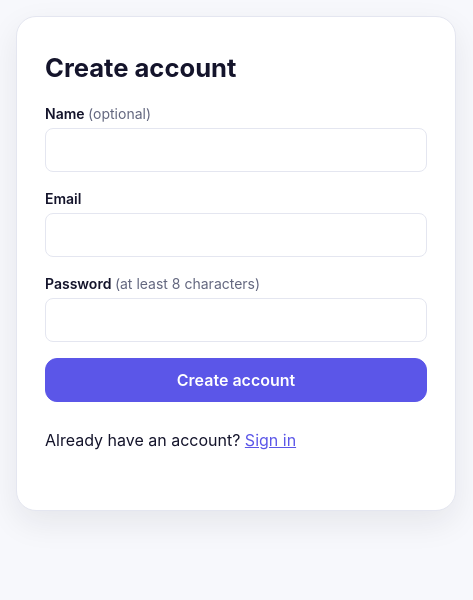
Test case: TC-AUTH-01 — sign up › reports an already-registered email in plain words
In the field labelled "Email": [236, 235] box [45, 213, 427, 257], type "dup@test.local"
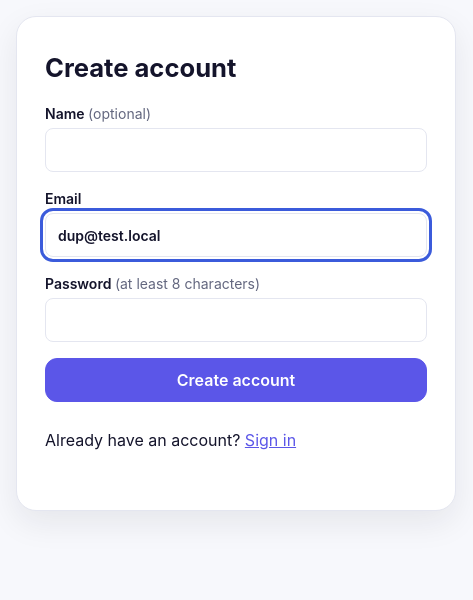
In the password field labelled "Password (at least 8 characters)": [236, 320] box [45, 298, 427, 342], type "Test@1234"
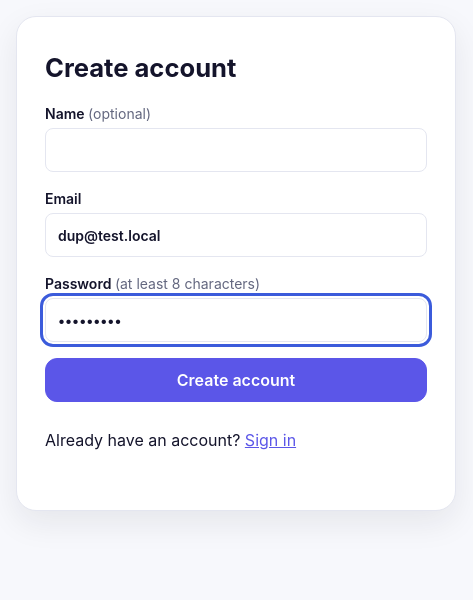
Click the button "Create account": [236, 380] box [45, 358, 427, 402]
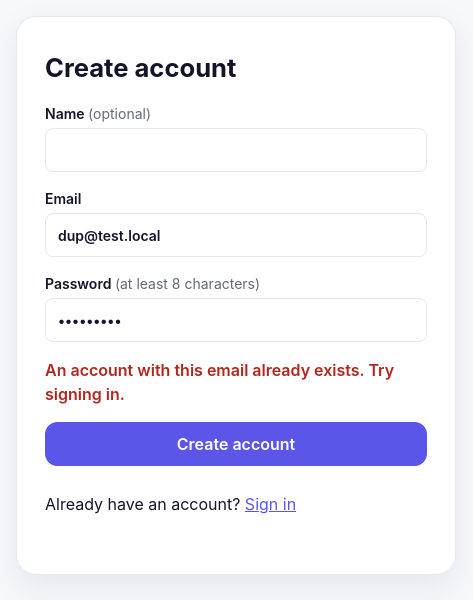
Now the message shows "already exists", box [45, 360, 394, 404]
